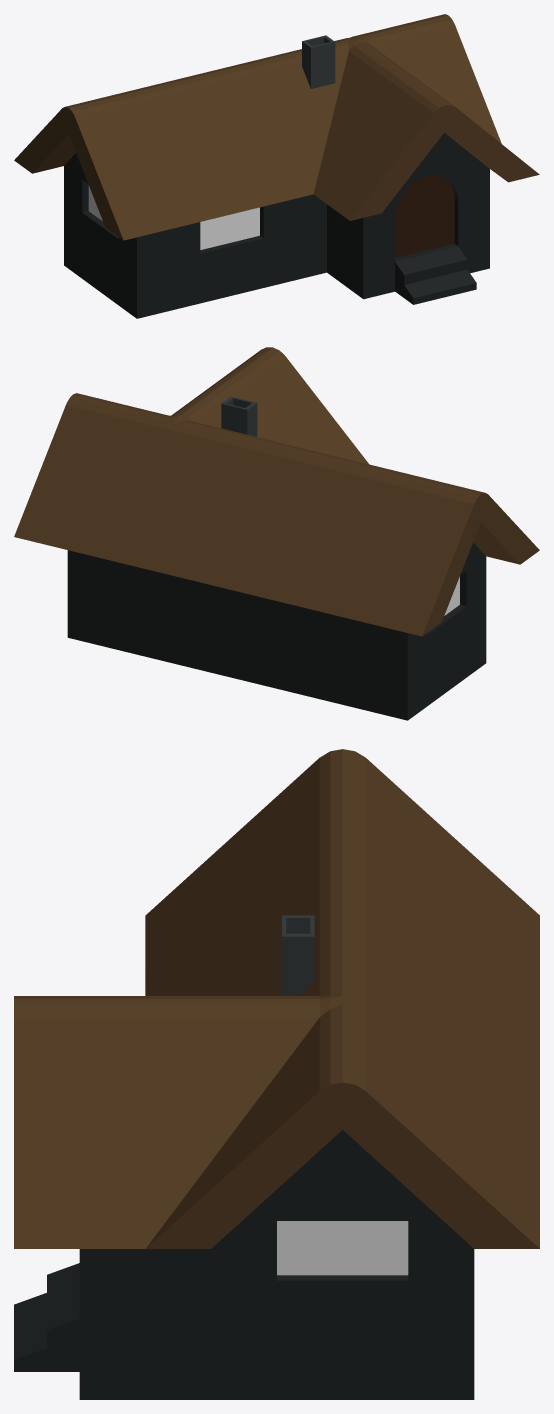
The model's file is Maison - Copie.fbx.
3 renders of one model, top to bottom at view 1: azimuth 30°, elevation 25°; view 2: azimuth 150°, elevation 25°; view 3: azimuth 270°, elevation 25°, orthographic. The views are drawn at different scales.
Parts seen in each view (by area): view 1: Cube; view 2: Cube; view 3: Cube.
Part boxes in pixels (x1,y1,x2,y2): Cube: (14,14,539,318); Cube: (14,347,539,720); Cube: (14,749,539,1399).
Bounding box in the file's own units: 1200 × 632 × 800.
Materials: 2 (1 with a texture image).
